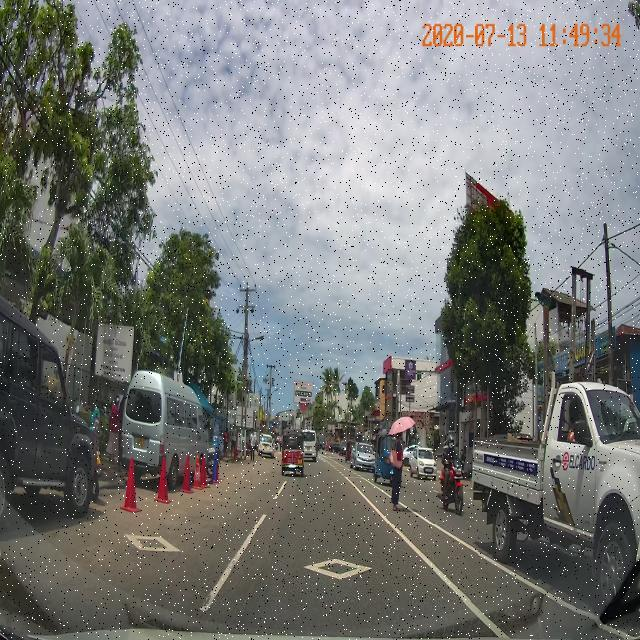diamond: (205, 525, 477, 601)
